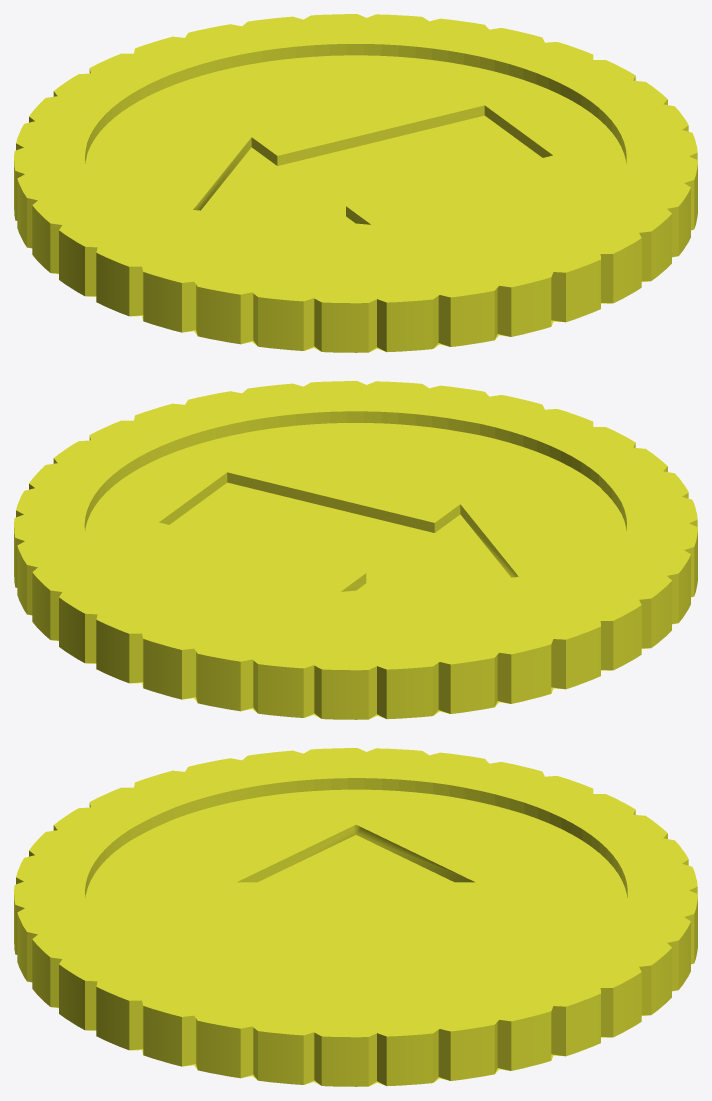
File: coin.FBX
3 renders of one model, top to bottom at view 1: azimuth 30°, elevation 25°; view 2: azimuth 150°, elevation 25°; view 3: azimuth 270°, elevation 25°, orthographic.
Visible parts, largest first — view 1: Cylinder001; view 2: Cylinder001; view 3: Cylinder001.
Boxes of the visible parts, x1,y1,x2,y2 form: Cylinder001: (14, 14, 697, 352); Cylinder001: (14, 381, 697, 719); Cylinder001: (14, 748, 697, 1086).
Bounding box in the file's own units: 39.36 × 3.15 × 39.36.
